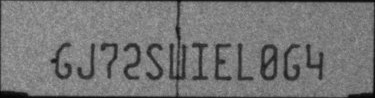0: (258, 43, 279, 81)
2: (123, 42, 142, 80)
4: (306, 43, 323, 79)
7: (100, 40, 117, 80)
E: (214, 41, 233, 80)
G: (283, 42, 302, 81), (55, 42, 73, 80)
I: (190, 42, 208, 80)
J: (77, 41, 96, 79)
L: (237, 42, 255, 80)
S: (144, 43, 164, 80)
U: (168, 42, 187, 80)
